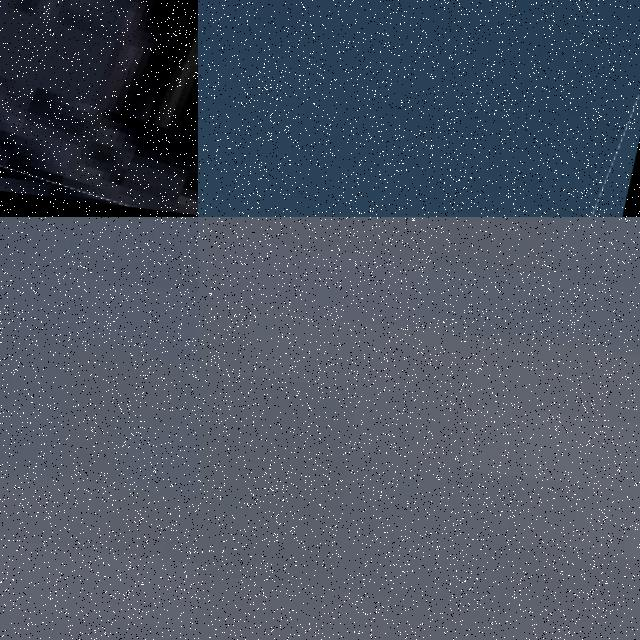0: (0, 0, 198, 217)
drone: (198, 0, 640, 217)
